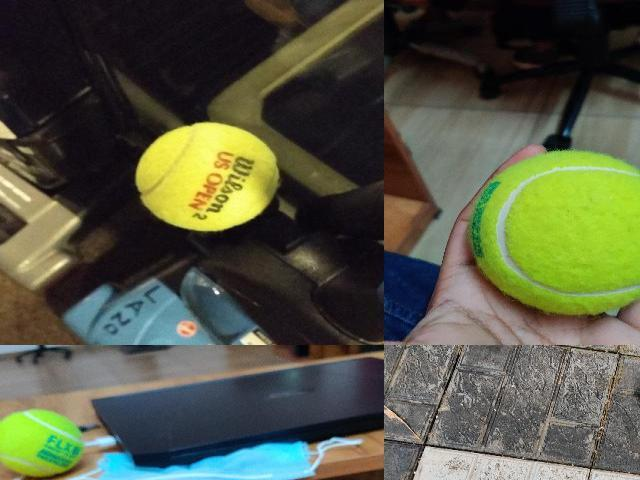tennis-ball: (468, 150, 639, 316), (134, 122, 281, 234), (0, 409, 84, 476)
